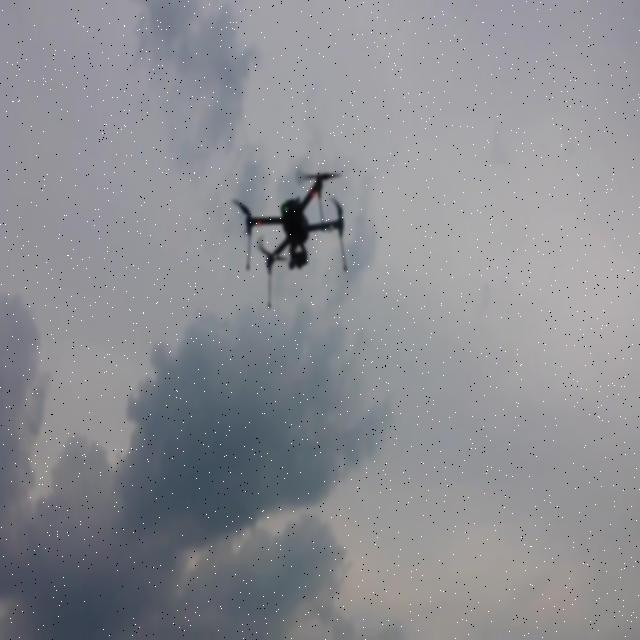UAV: (231, 164, 347, 310)
